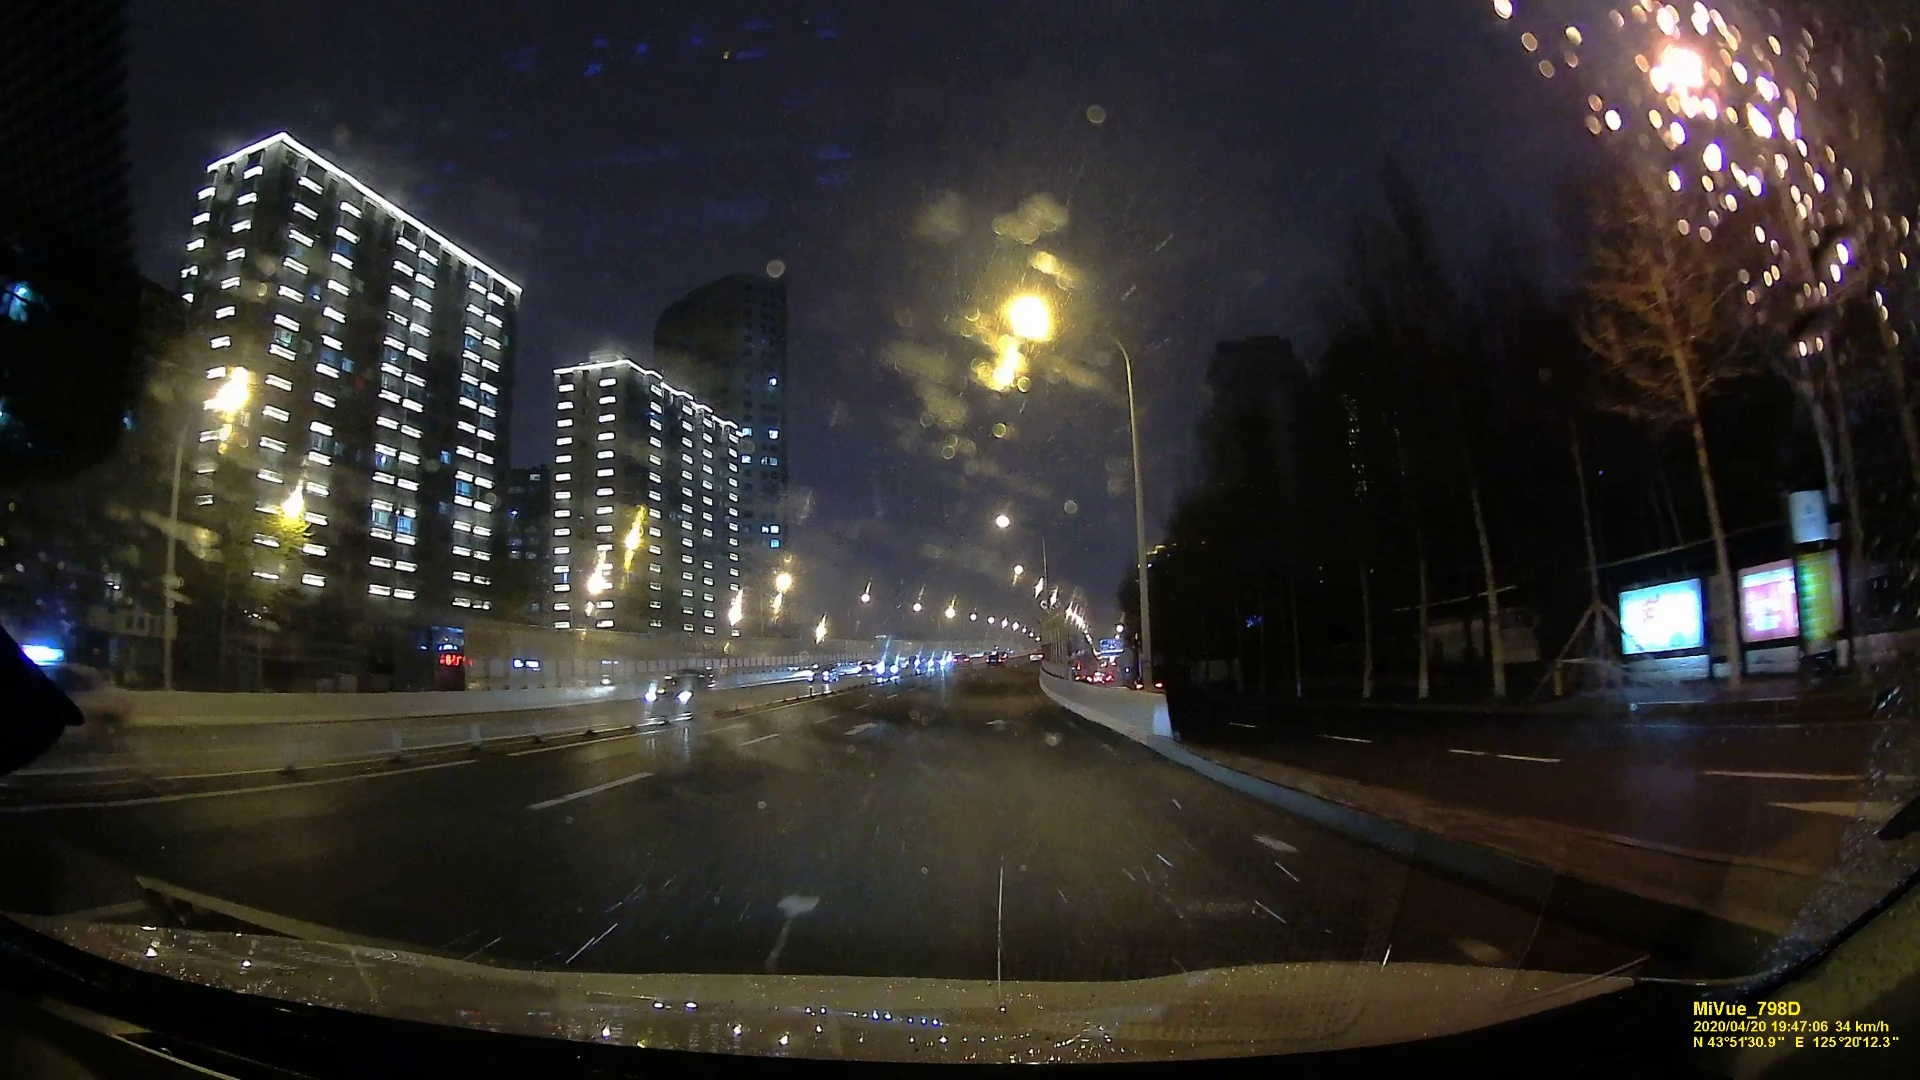vehicle: (644, 669, 713, 713)
